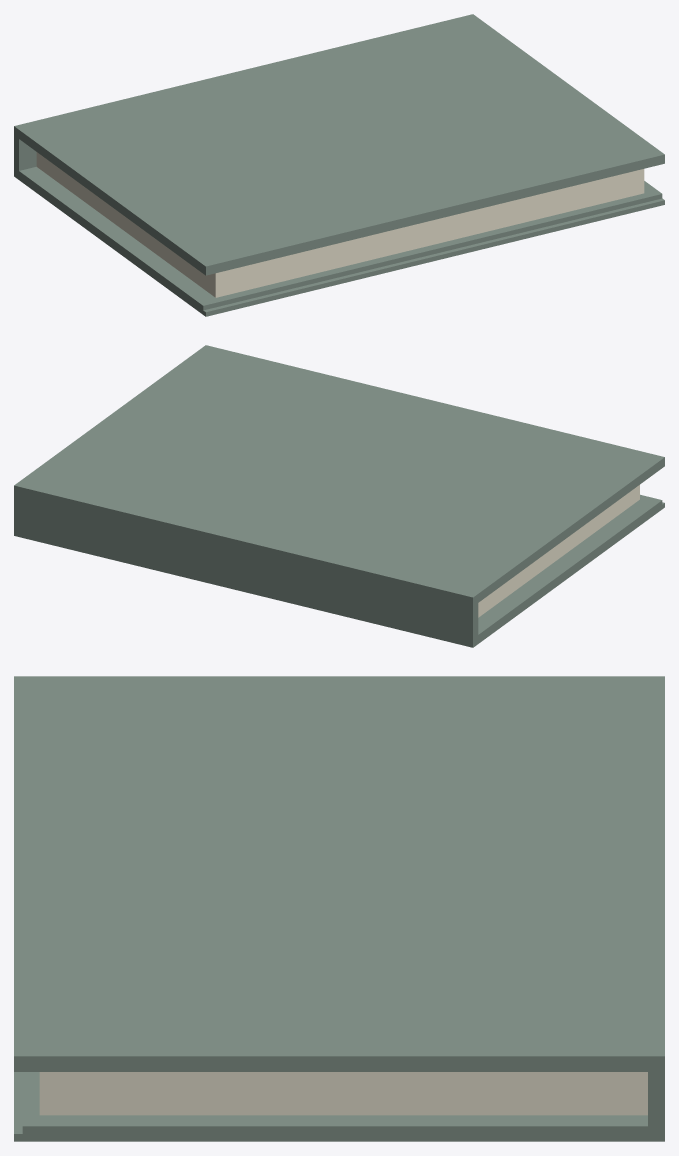
The model's file is notebook.glb.
3 renders of one model, top to bottom at view 1: azimuth 30°, elevation 25°; view 2: azimuth 150°, elevation 25°; view 3: azimuth 270°, elevation 25°, orthographic. The views are drawn at different scales.
Parts seen in each view (by area): view 1: board:board, block:block; view 2: board:board, block:block; view 3: board:board, block:block.
Boxes of the visible parts, x1,y1,x2,y2 form: board:board: (14,14,664,316); block:block: (36,152,644,297); board:board: (14,345,664,647); block:block: (478,485,639,617); board:board: (14,676,664,1141); block:block: (39,1072,647,1115).
Bounding box in the file's own units: 0.21 × 0.022 × 0.152.
